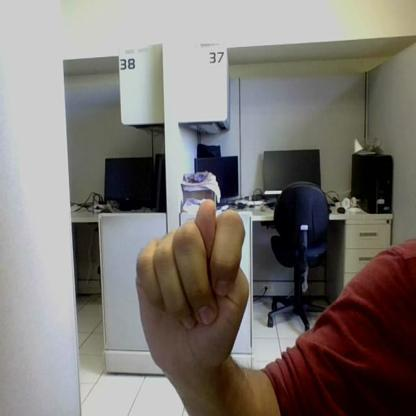T: (137, 200, 247, 354)
